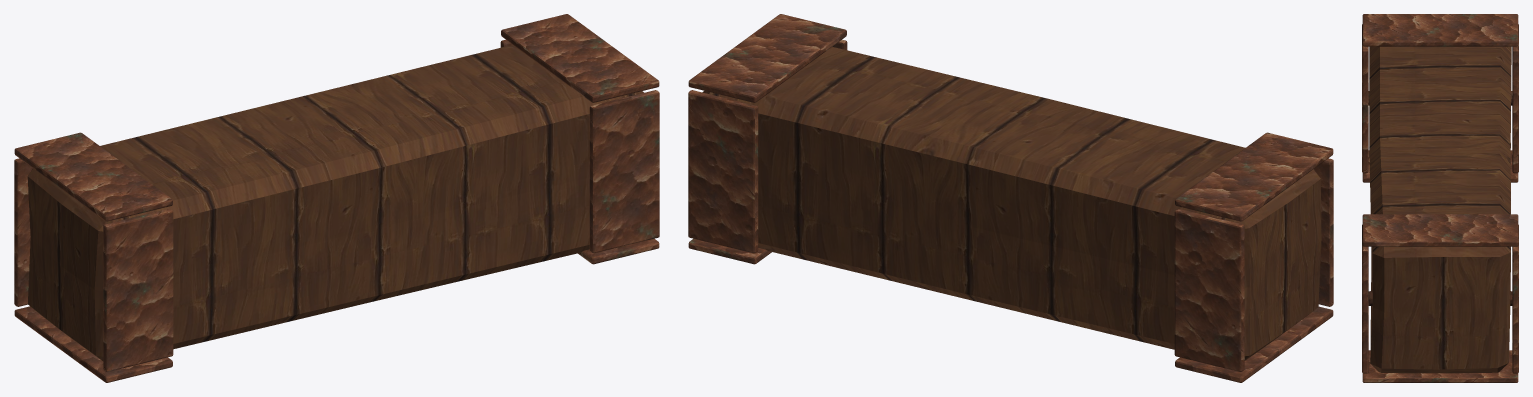
Rendered from beam_half__cut_stone.glb.
The picture shows the model from 3 angles, left to right: view 1: azimuth 30°, elevation 25°; view 2: azimuth 150°, elevation 25°; view 3: azimuth 270°, elevation 25°; orthographic projection. The views are drawn at different scales.
Parts seen in each view (by area): view 1: model; view 2: model; view 3: model.
Boxes of the visible parts, left/top/right/bottom form: model: left=14, top=14, right=659, bottom=382; model: left=688, top=14, right=1333, bottom=382; model: left=1362, top=14, right=1518, bottom=382.
Size of the model in its own units: 0.984 by 0.286 by 0.286.
3 materials, 3 textured.
